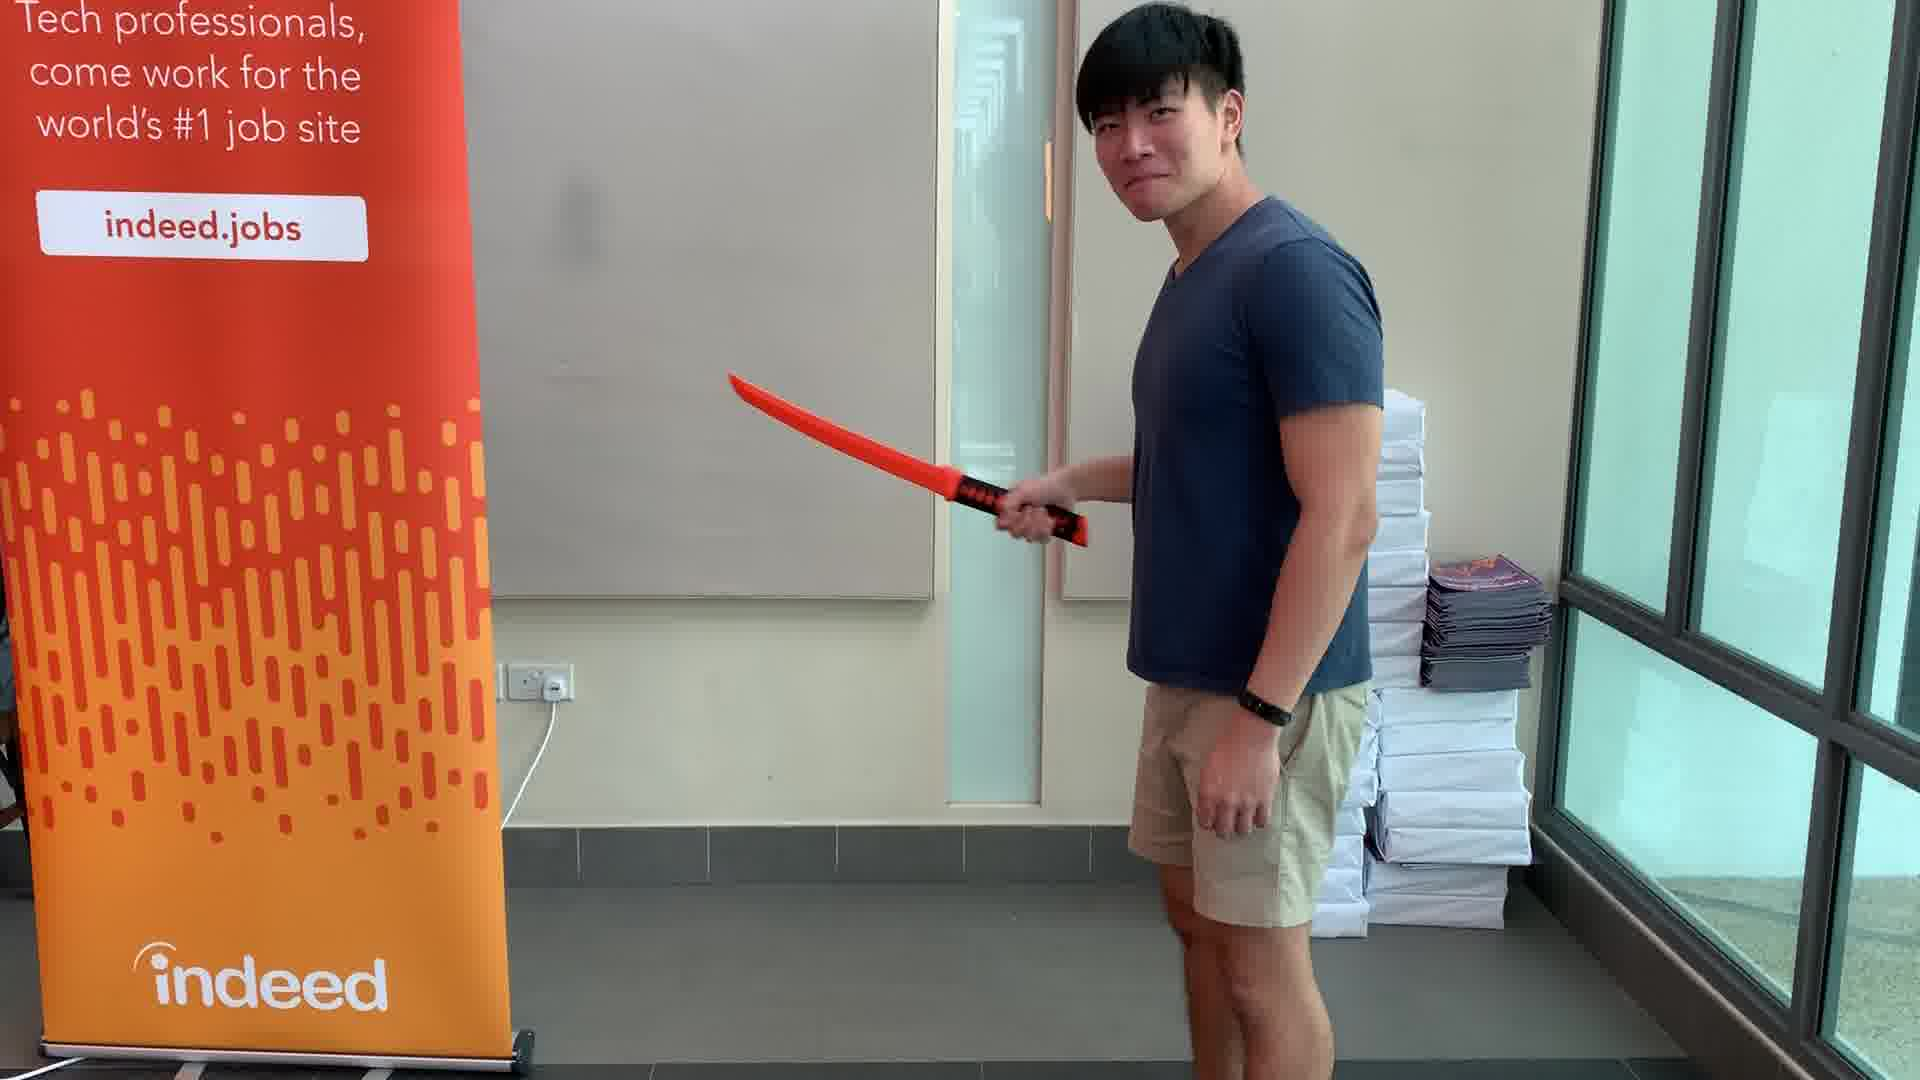knife: (716, 364, 1101, 555)
